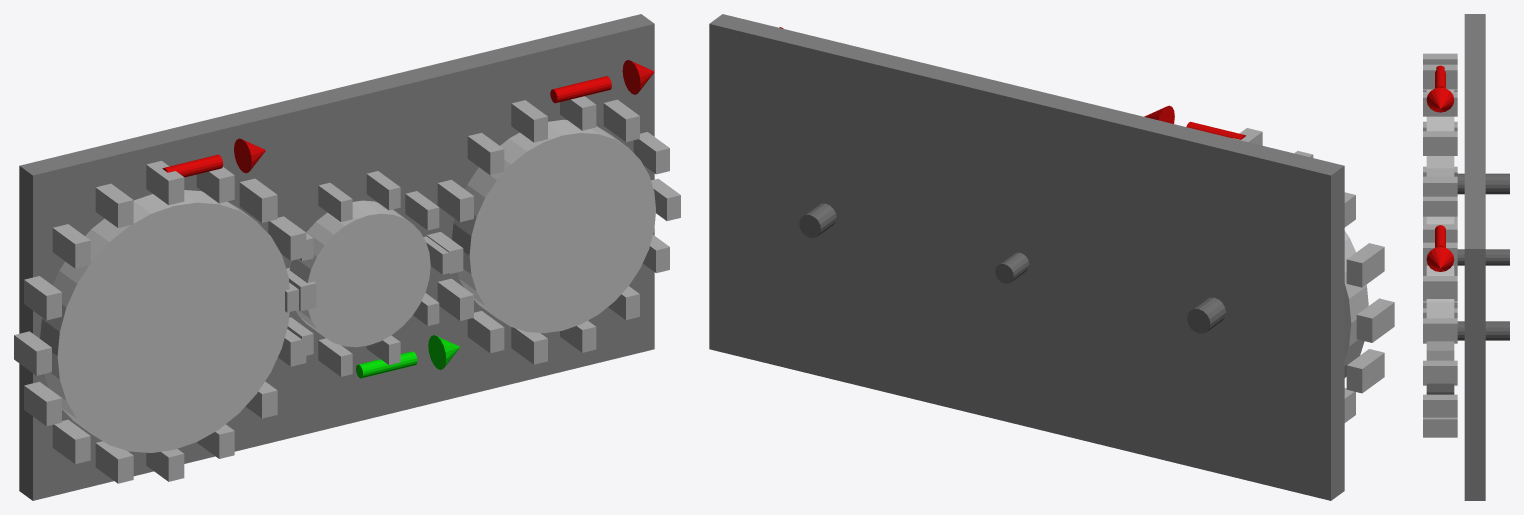
Rendered from gear_systems.glb.
The picture shows the model from 3 angles, left to right: view 1: azimuth 30°, elevation 25°; view 2: azimuth 150°, elevation 25°; view 3: azimuth 270°, elevation 25°; orthographic projection. The views are drawn at different scales.
Parts seen in each view (by area): view 1: world; view 2: world; view 3: world.
Part boxes in pixels (x1,y1,x2,y2): world: (14, 14, 680, 500); world: (709, 14, 1394, 500); world: (1423, 14, 1509, 500).
Bounding box in the file's own units: 8.3 × 4 × 1.25.
